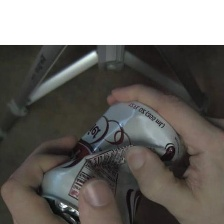can: (39, 93, 190, 223)
